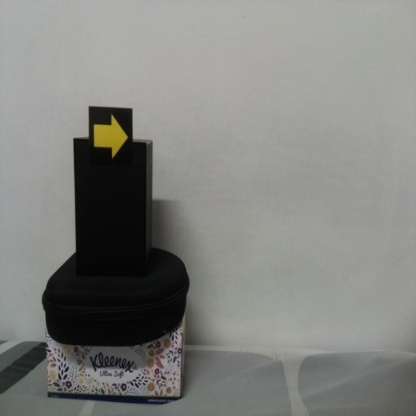id_3: (89, 106, 133, 166)
